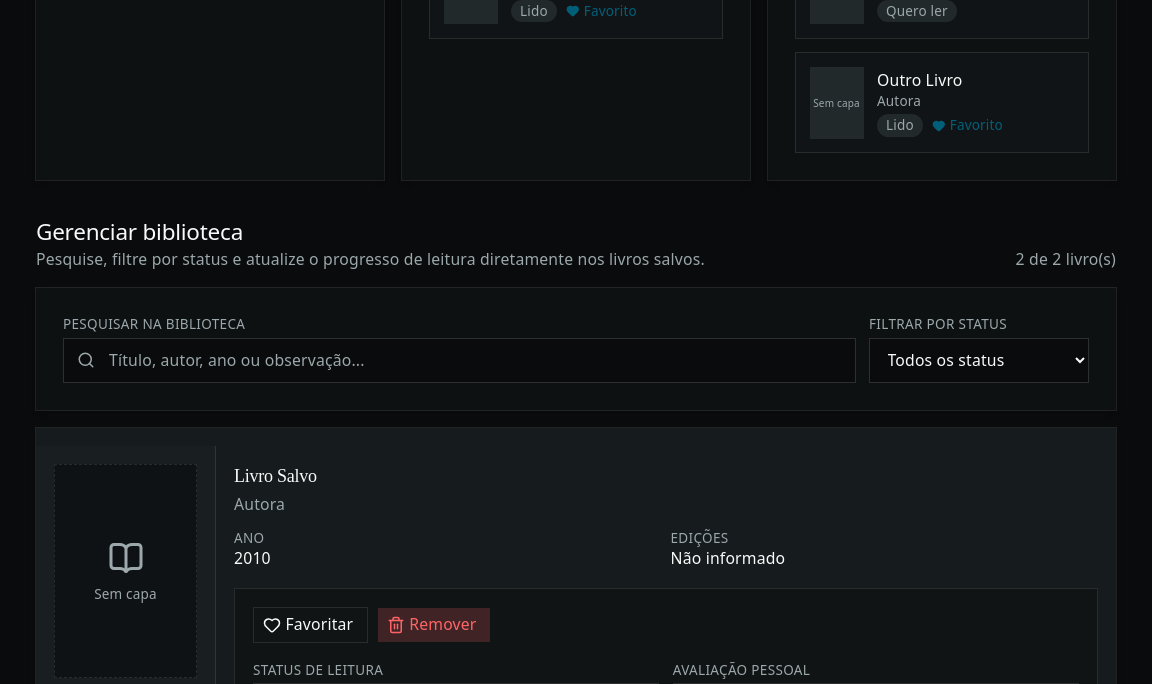
Scenario: Biblioteca pessoal › filtra por status e pesquisa dentro da biblioteca
(page scrolled)
Select "Lido" in the dropdown labelled "Filtrar por status" at [979, 360], box x1=869 y1=338 x2=1089 y2=383
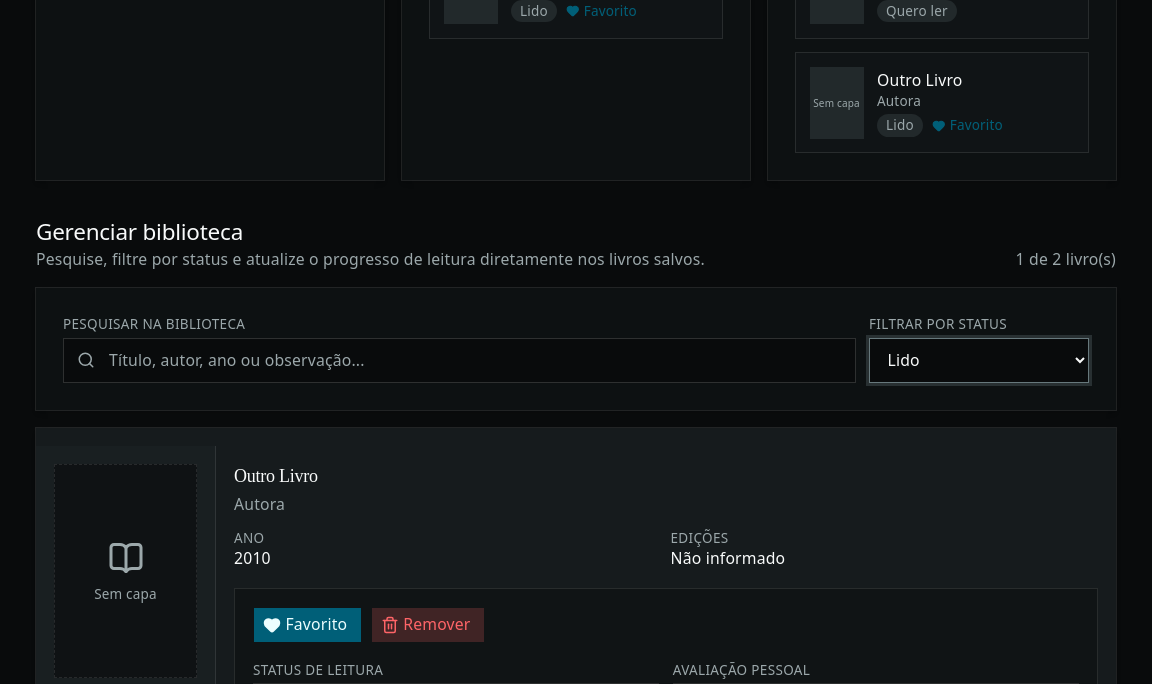
Expected: the heading "Livro Salvo" is not shown
Result: the text "1 de 2 livro(s)" is shown at x1=1016 y1=248 x2=1116 y2=270
Select "Todos os status" in the dropdown labelled "Filtrar por status" at [979, 360], box x1=869 y1=338 x2=1089 y2=383
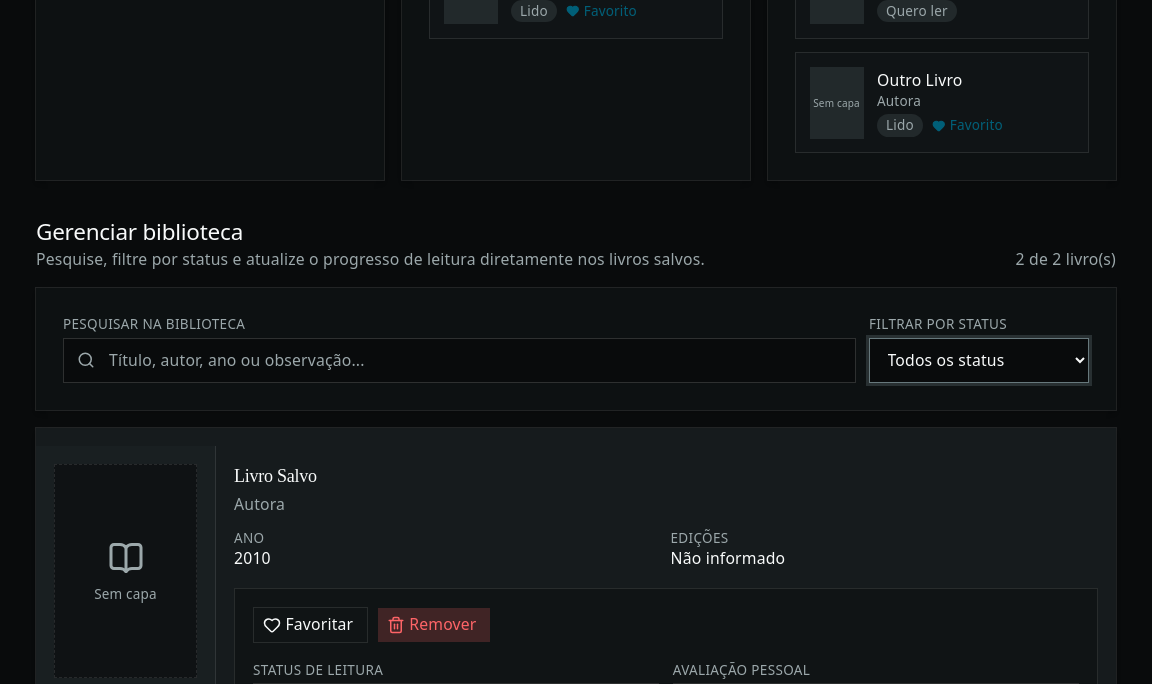
Type "ótimo" into the search field labelled "Pesquisar na biblioteca".
click(459, 360); type("ótimo")  # box x1=63 y1=338 x2=856 y2=383
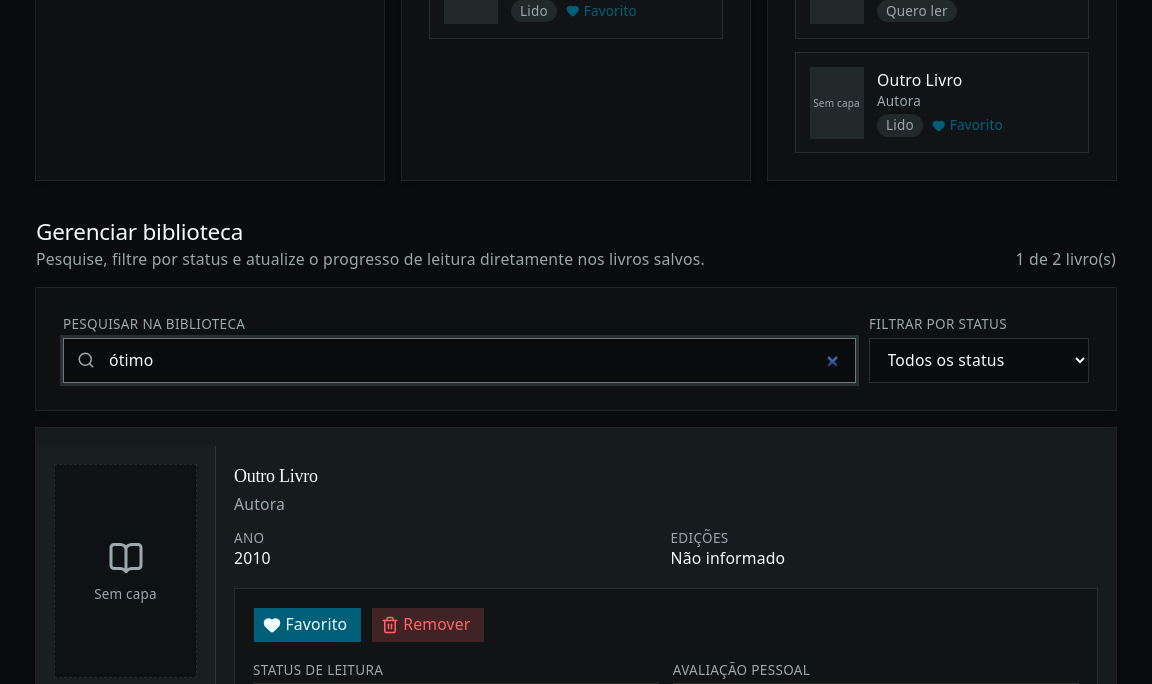
Expected: the heading "Livro Salvo" is not shown
Result: the text "1 de 2 livro(s)" is shown at x1=1016 y1=248 x2=1116 y2=270
